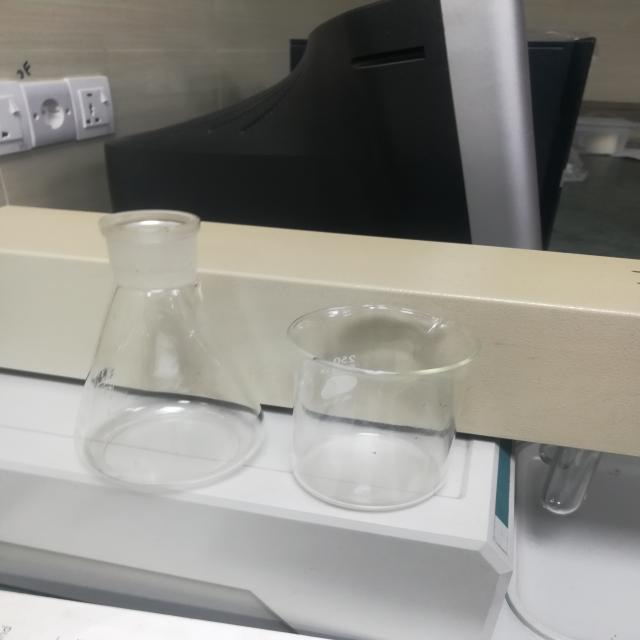Beaker: (276, 276, 494, 524)
Conical_Flask: (63, 195, 263, 501)
